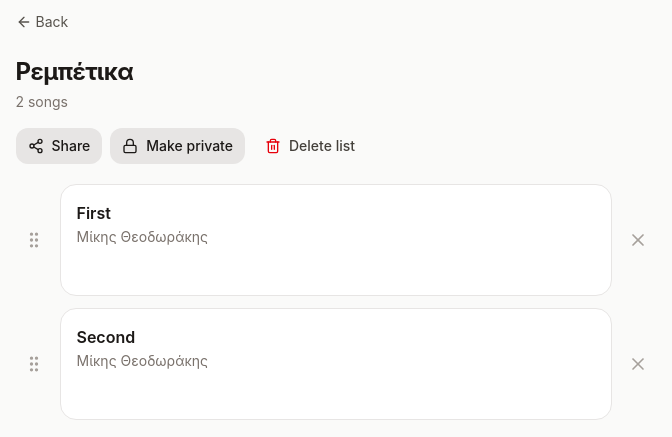
Test: ListDetailPage removal › lets the owner take a song out of their list
This screenshot has width=672, height=437.
Click the button named "Remove First from this list" at (638, 240), box [620,222,656,258]
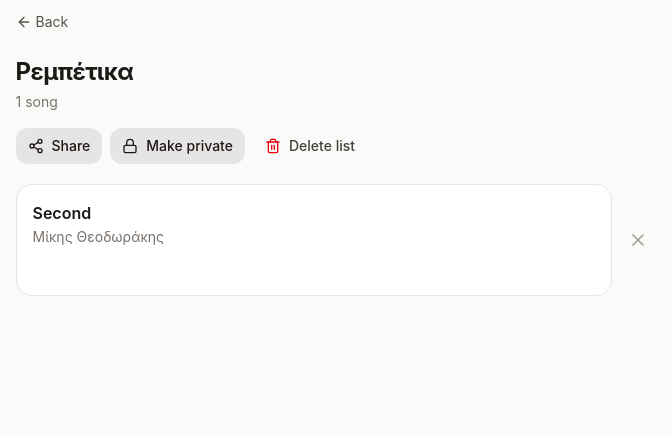
Expected: the heading "Second" is shown, [32,203,91,223]
Expected: the link "First" is gone
